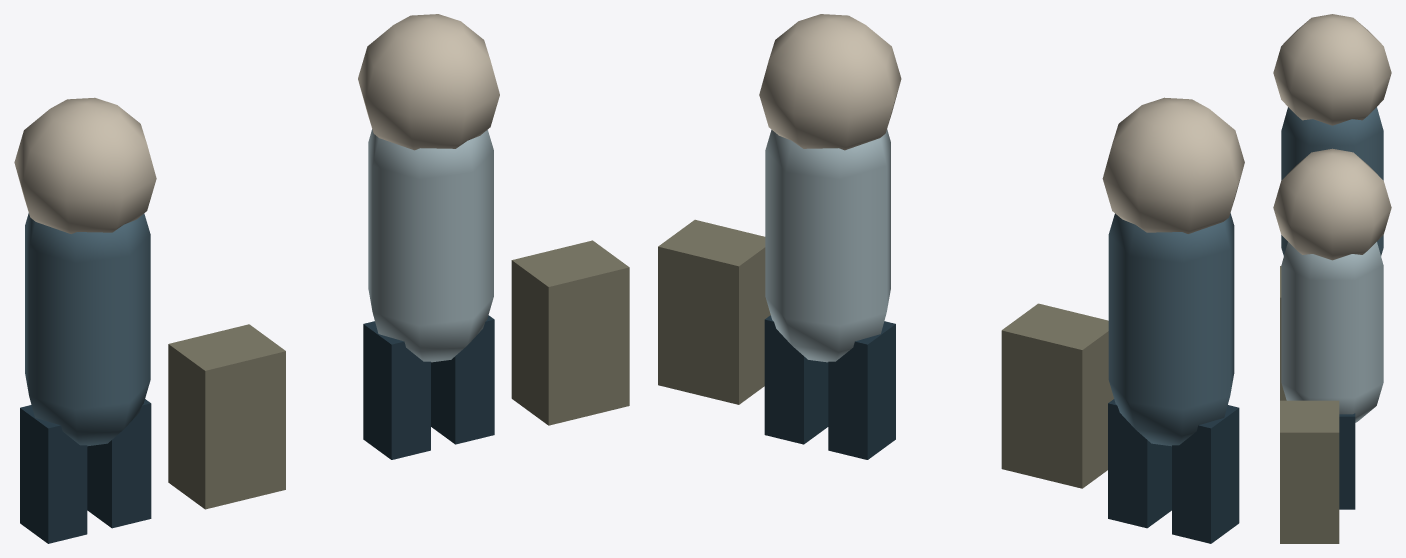
File: passengers-2.glb
The picture shows the model from 3 angles, left to right: view 1: azimuth 30°, elevation 25°; view 2: azimuth 150°, elevation 25°; view 3: azimuth 270°, elevation 25°; orthographic projection. The views are drawn at different scales.
Visible parts, largest first — view 1: passengers-2; view 2: passengers-2; view 3: passengers-2.
Boxes of the visible parts, box(x1,y1,x2,y2) form: passengers-2: box(14, 14, 629, 543); passengers-2: box(658, 14, 1244, 543); passengers-2: box(1273, 14, 1391, 543).
Bounding box in the file's own units: 2.35 × 1.62 × 0.52.
